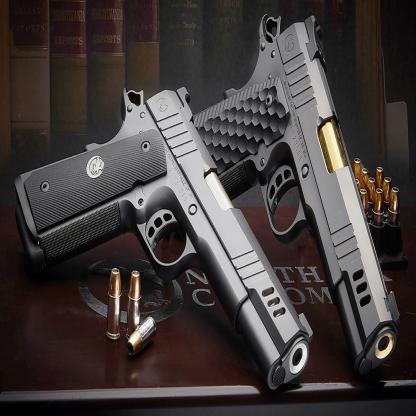Pistol: (12, 85, 314, 392), (192, 10, 402, 380)
